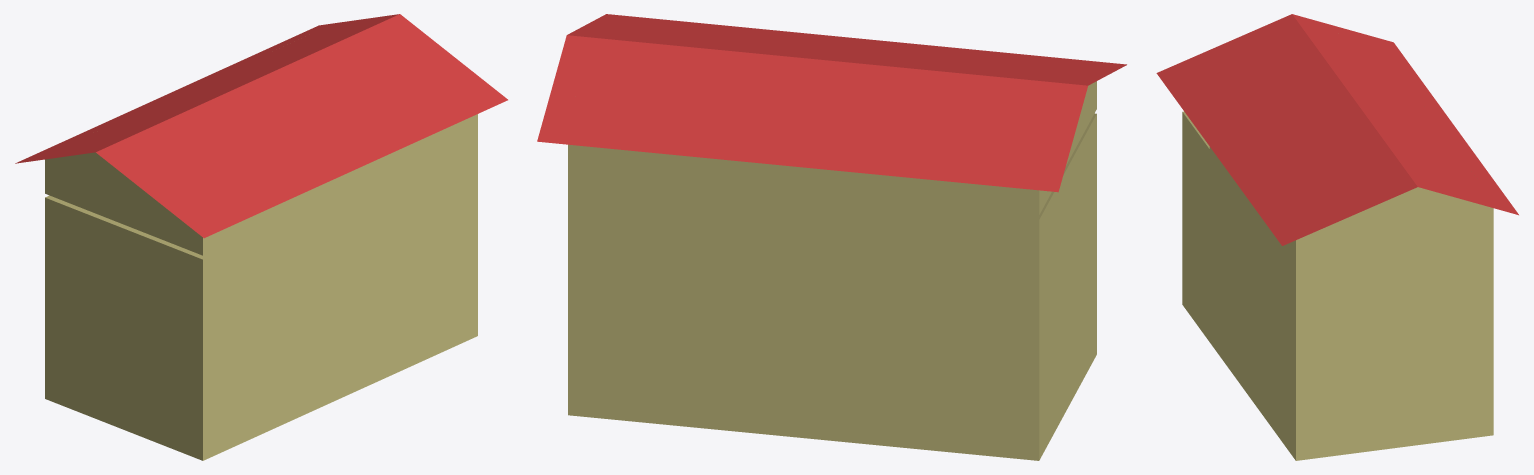
The picture shows the model from 3 angles, left to right: view 1: azimuth 30°, elevation 25°; view 2: azimuth 150°, elevation 25°; view 3: azimuth 270°, elevation 25°; orthographic projection. The views are drawn at different scales.
Size of the model in its own units: 11.65 by 8.77 by 7.12.
